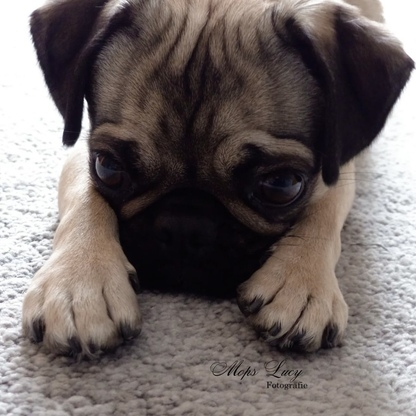Pug: (14, 1, 416, 365)
